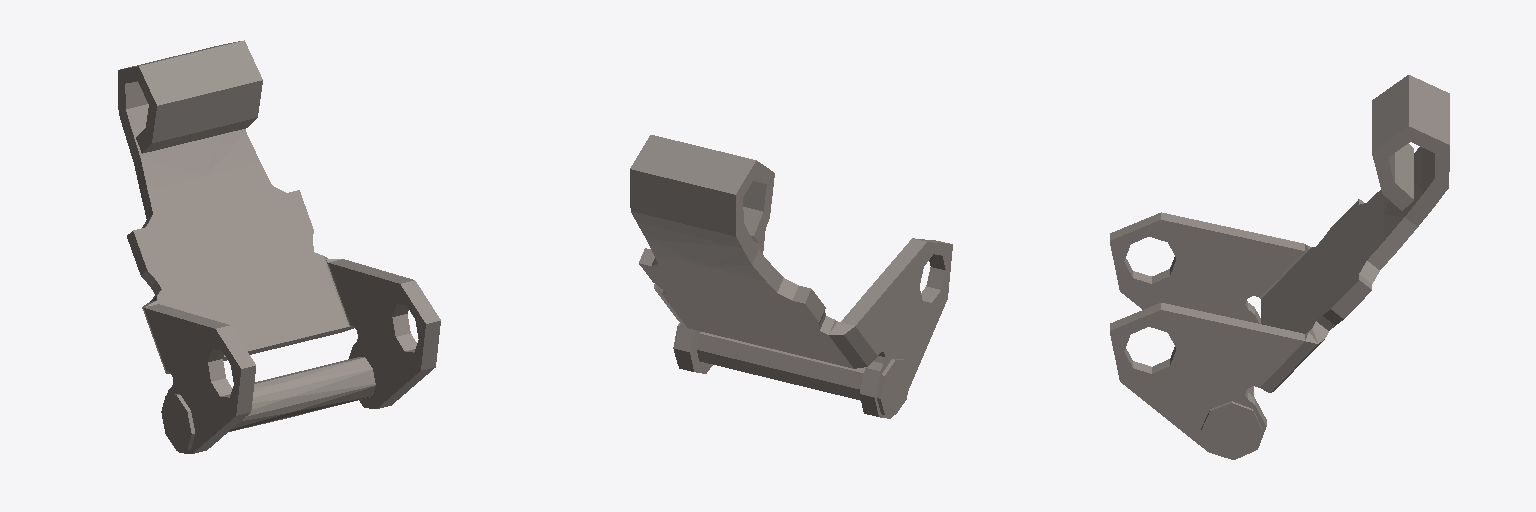
File: Hinge_3_Holes_Connector+Pin_2.obj
3 views of the same model, side by side, from view 1: azimuth 30°, elevation 25°; view 2: azimuth 150°, elevation 25°; view 3: azimuth 270°, elevation 25° (orthographic).
Visible parts, largest first — view 1: _[number redacted], _[number redacted]; view 2: _[number redacted], _[number redacted]; view 3: _[number redacted], _[number redacted].
Boxes of the visible parts, x1=… form: _[number redacted]: x1=118, y1=40, x2=440, y2=453; _[number redacted]: x1=161, y1=357, x2=375, y2=450; _[number redacted]: x1=630, y1=135, x2=952, y2=418; _[number redacted]: x1=673, y1=323, x2=910, y2=414; _[number redacted]: x1=1110, y1=75, x2=1449, y2=459; _[number redacted]: x1=1201, y1=386, x2=1261, y2=457.
Bounding box in the file's own units: 13.7 × 19.66 × 19.51.